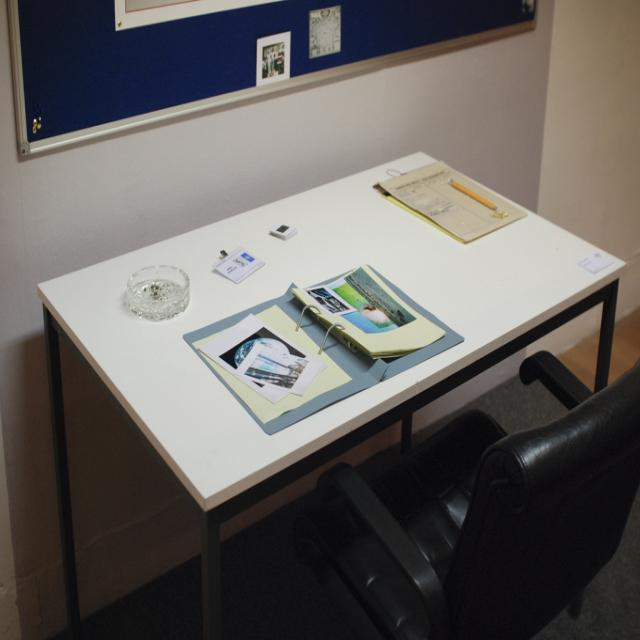chair: (293, 358, 640, 633)
desk: (40, 154, 621, 633)
